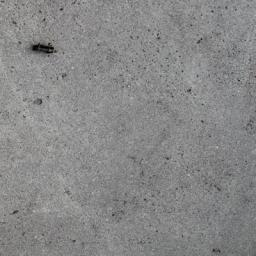FOD: (27, 39, 64, 59)
